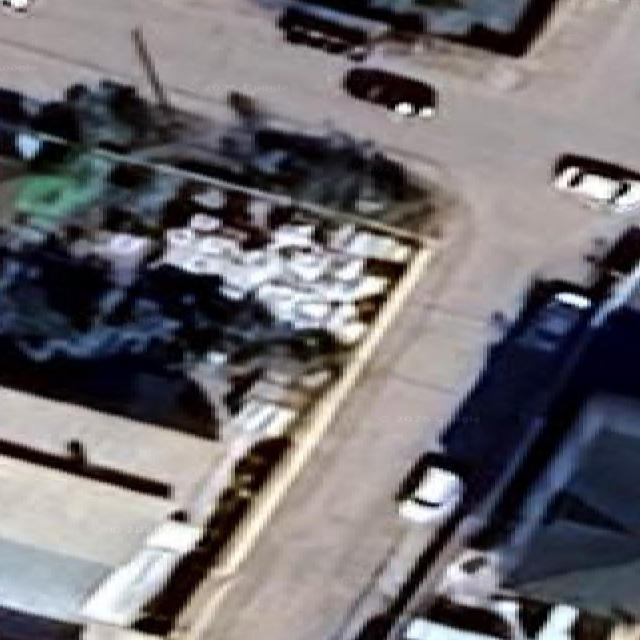car: (83, 520, 200, 623), (400, 595, 611, 639), (278, 3, 386, 59), (400, 596, 520, 639), (343, 64, 435, 118), (553, 156, 639, 212), (519, 291, 591, 351), (399, 464, 462, 524), (437, 548, 499, 606), (555, 167, 639, 207), (593, 227, 639, 284), (403, 616, 511, 639), (0, 88, 32, 158), (535, 604, 579, 639), (0, 88, 26, 127), (13, 131, 43, 160), (552, 292, 590, 308), (2, 0, 31, 11), (592, 632, 595, 635), (597, 628, 599, 630)
